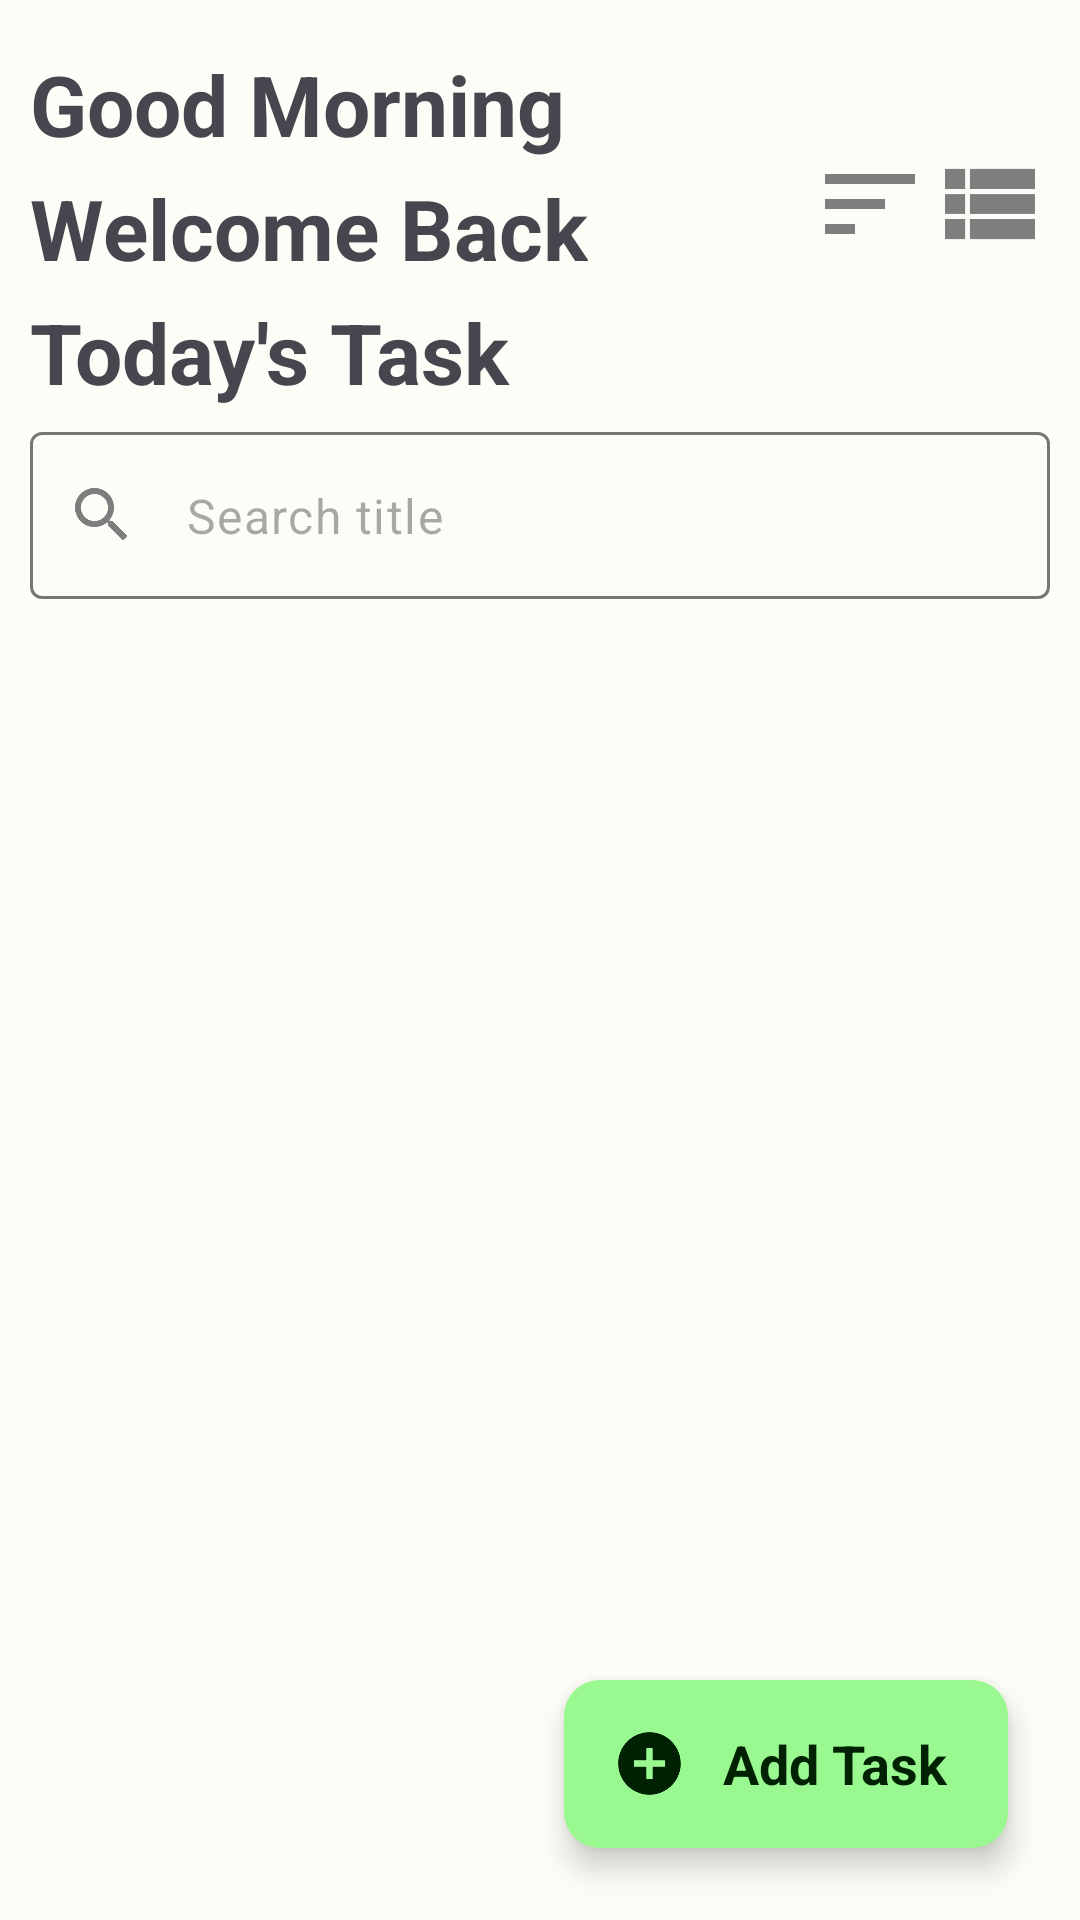

Icons on this 1080 x 1920 Android screen, each with its box as (x1, y1, x2, y2):
sort: (825, 174, 915, 234)
view list: (945, 169, 1035, 239)
